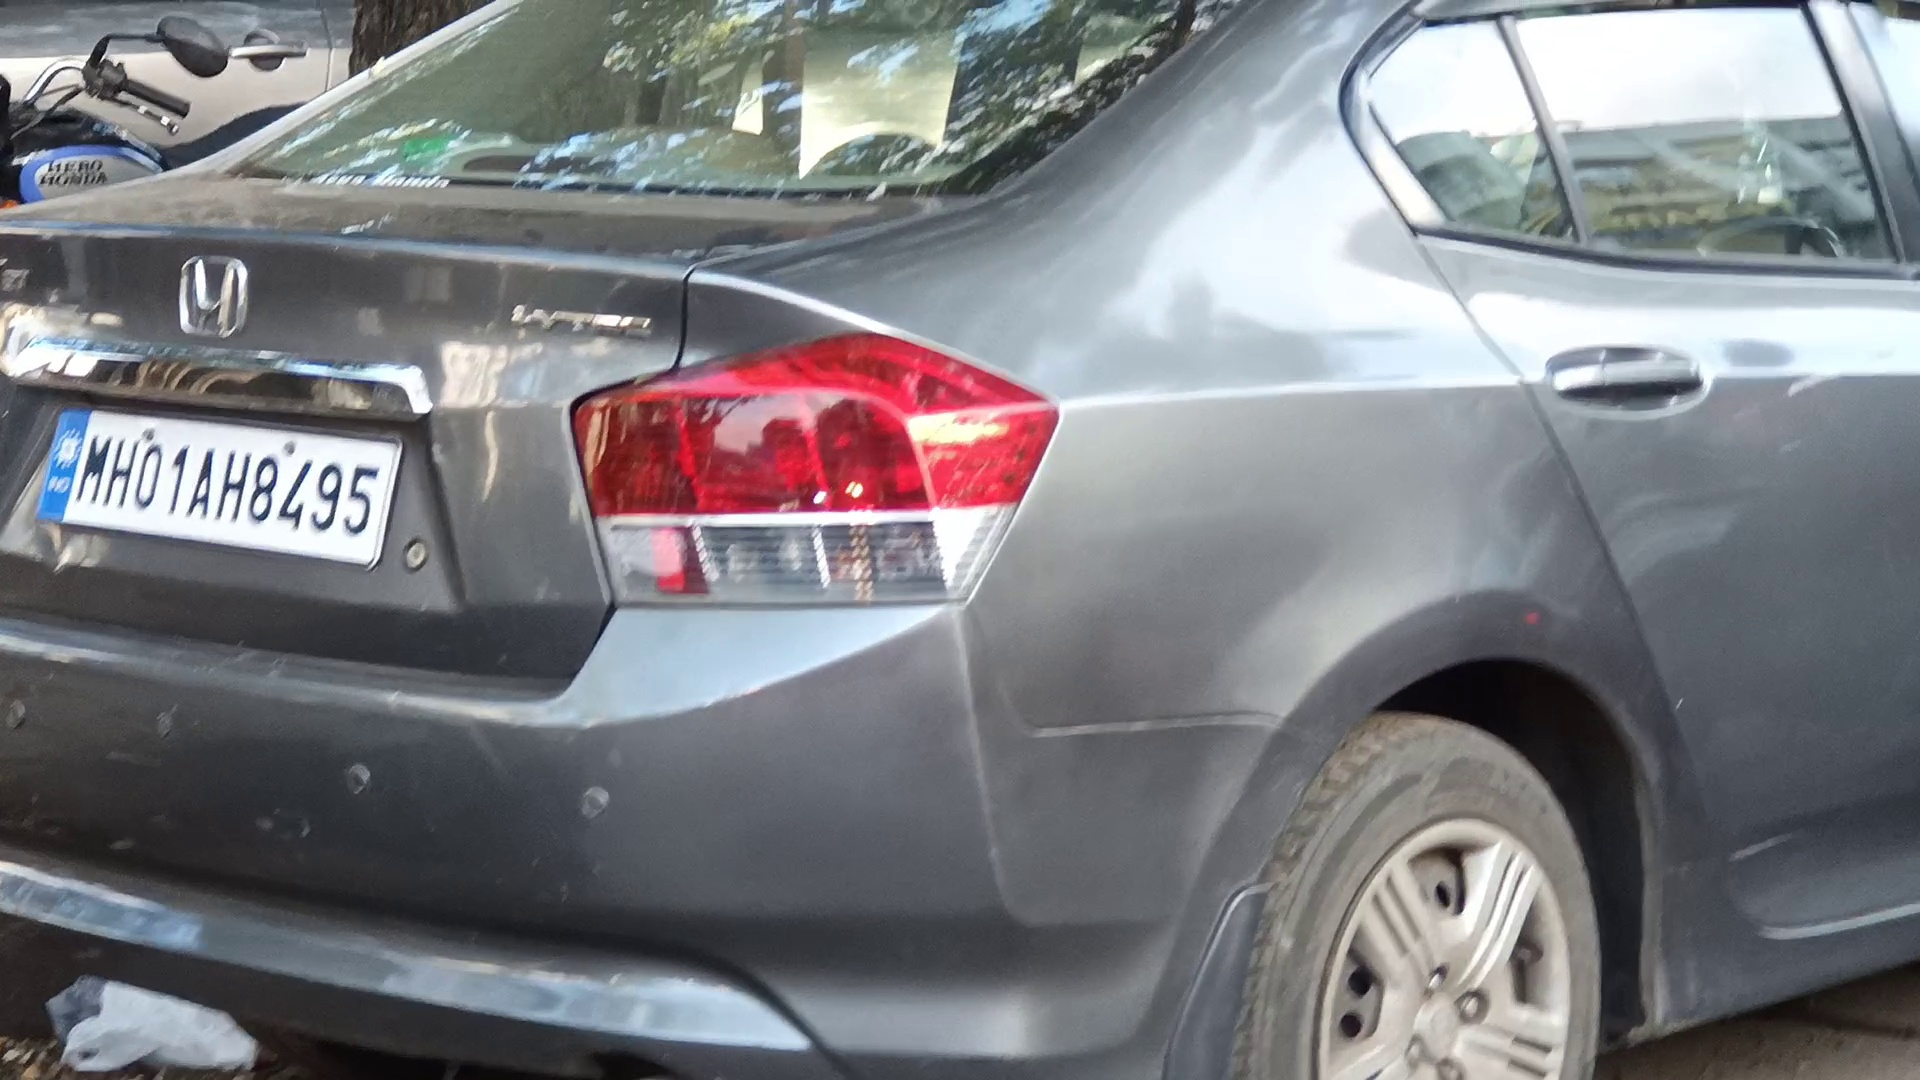MH01AH8495: (34, 406, 398, 570)
